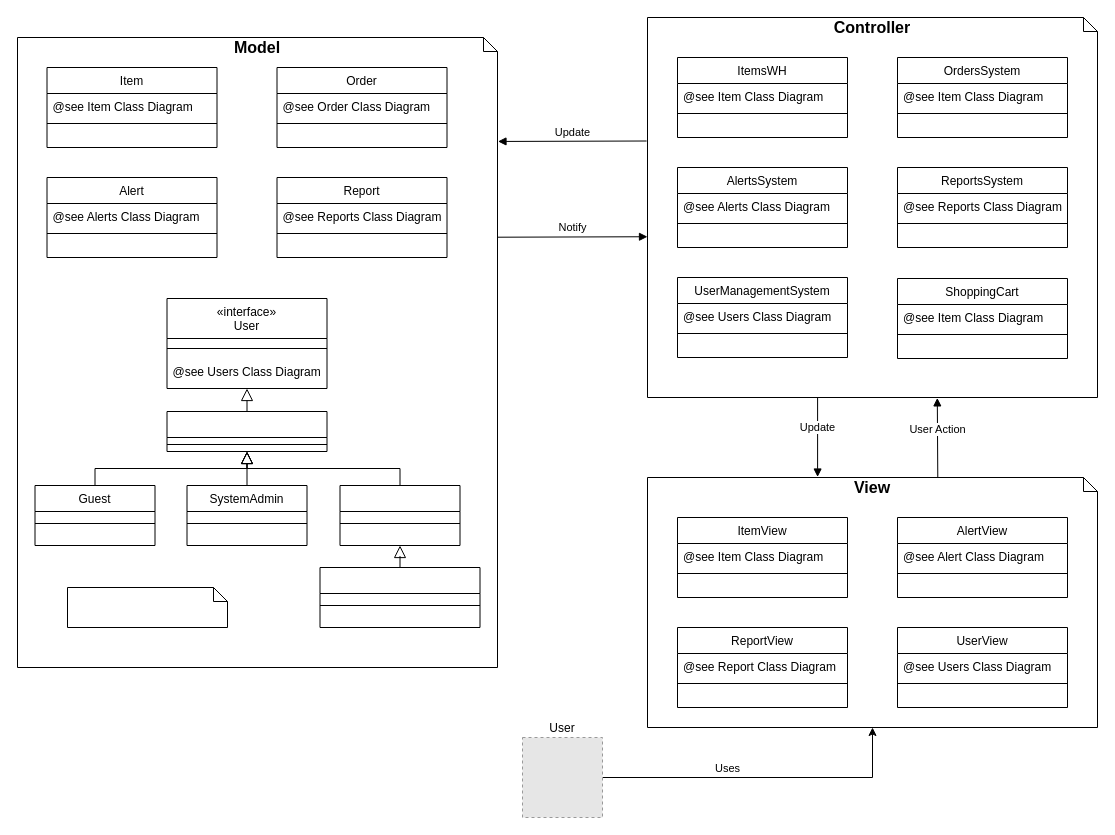
The diagram is 1115 pixels wide and 835 high, and some of its shapes have lost their labels. Grey dashed boxes stand in for pictures. The shapes that lost their labels are listed below. From the top down, each one's centre as x and y in pixels, then its label:
At (246,431): "AbstractUser".
At (399,515): "Customer".
At (147,607): "Repositories that access the DB sit here as well".
At (399,597): "Manager".
